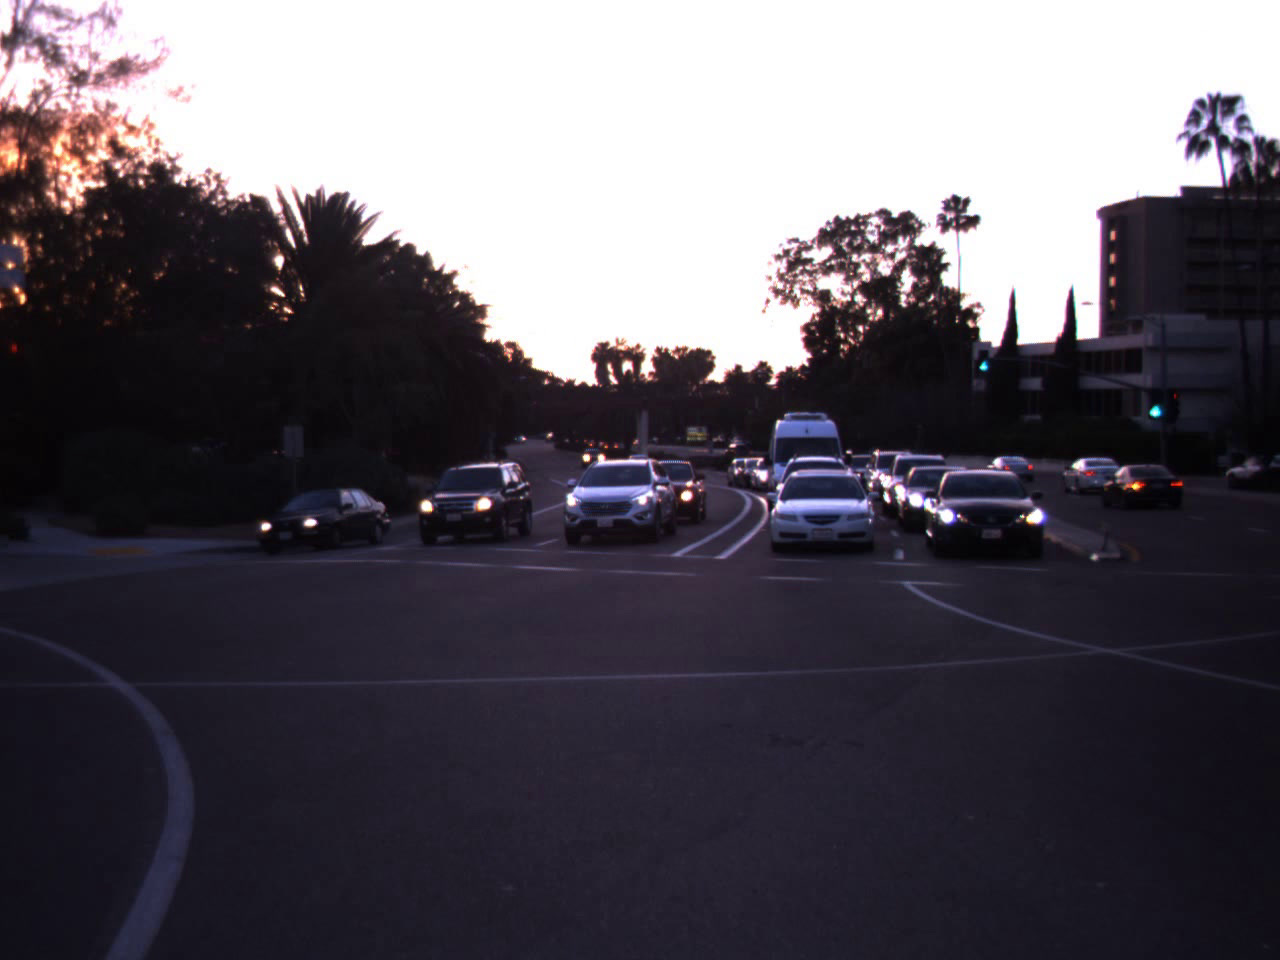go: (1137, 355, 1173, 425), (968, 329, 998, 374)
